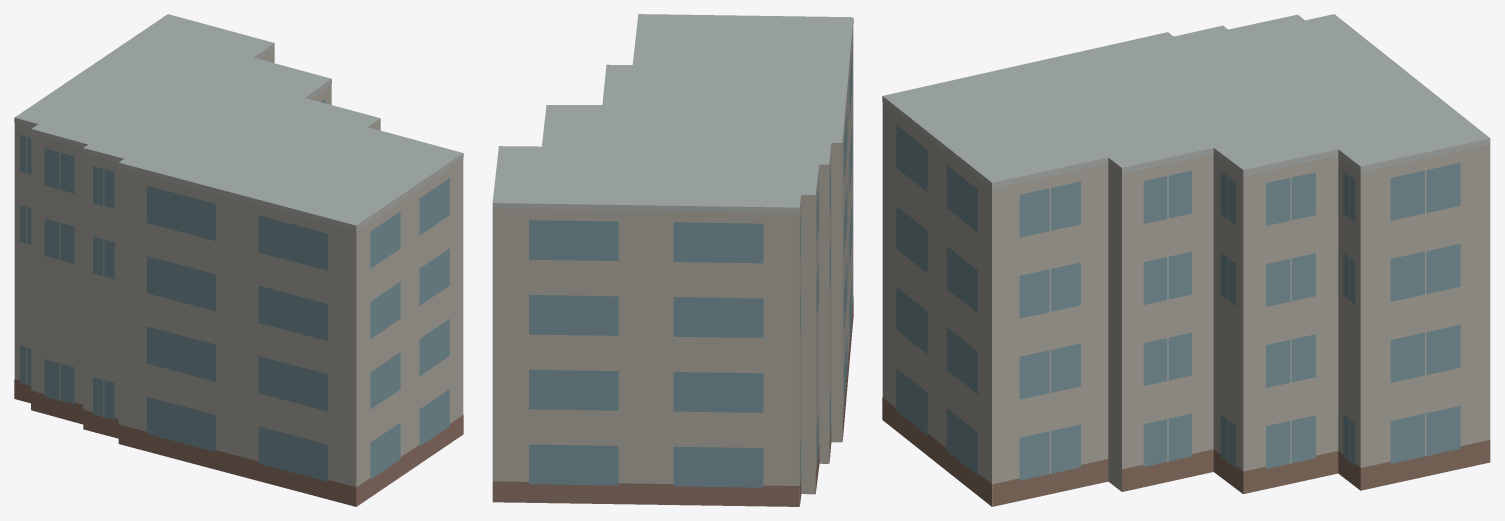
Rendered from survey-upis-32584811.glb.
3 renders of one model, left to right at view 1: azimuth 30°, elevation 25°; view 2: azimuth 150°, elevation 25°; view 3: azimuth 270°, elevation 25°, orthographic. The views are drawn at different scales.
Parts seen in each view (by area): view 1: survey-upis-32584811.tmp; view 2: survey-upis-32584811.tmp; view 3: survey-upis-32584811.tmp.
Part boxes in pixels (x1,y1,x2,y2): survey-upis-32584811.tmp: (14,14,463,506); survey-upis-32584811.tmp: (492,14,853,506); survey-upis-32584811.tmp: (882,14,1490,506).
Bounding box in the file's own units: 14.57 × 13.03 × 22.16.
